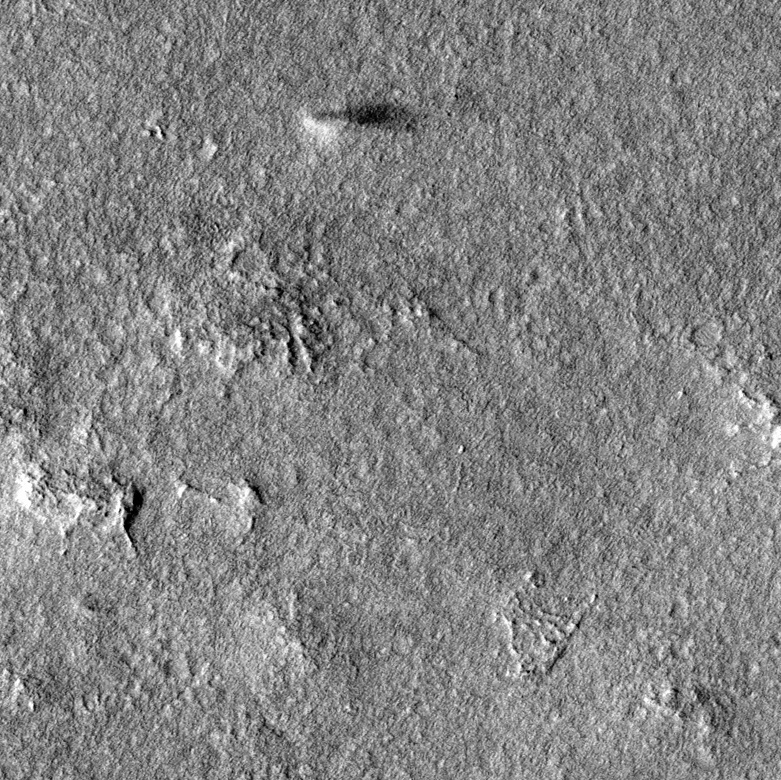dust_devil: (299, 99, 421, 145)
